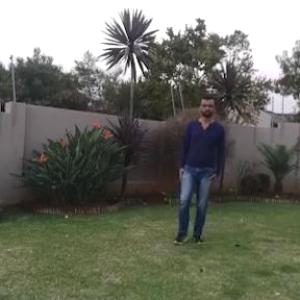follow: (178, 98, 219, 234)
